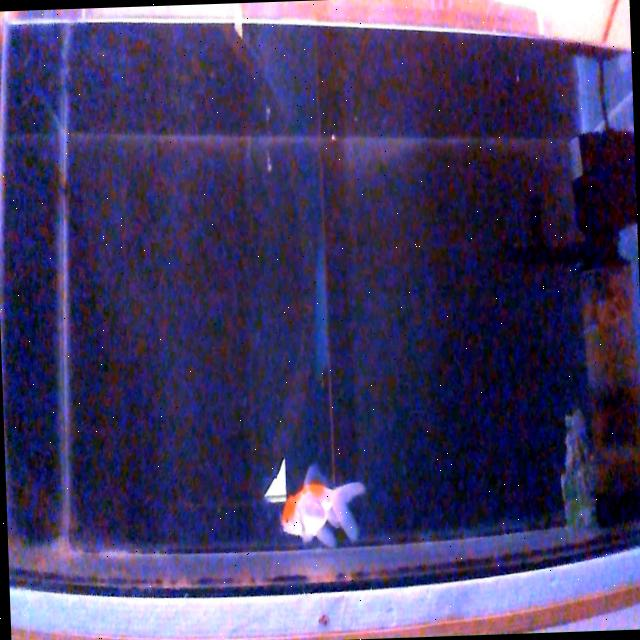fish: (274, 461, 368, 549)
